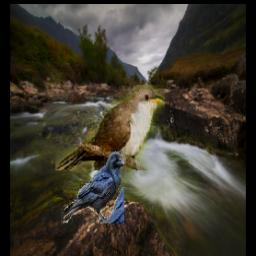Crow: (62, 151, 125, 224)
Cuckoo: (56, 86, 166, 171)
